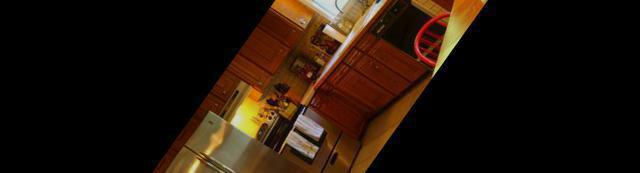Lavaplatos: (310, 0, 382, 59)
